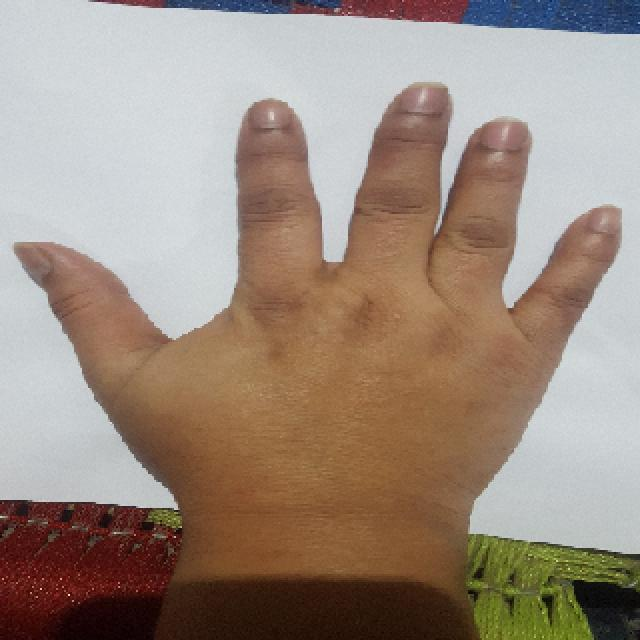Nail: (14, 242, 52, 288), (479, 119, 530, 151), (399, 84, 449, 114), (248, 100, 292, 130), (588, 206, 621, 234)
